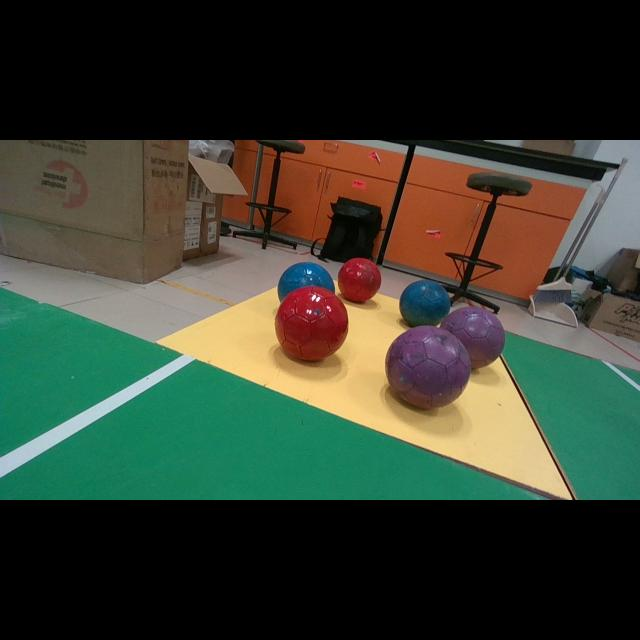B: (400, 280, 450, 326), (278, 262, 335, 301)
P: (385, 325, 471, 408), (440, 306, 505, 369)
R: (275, 286, 349, 361), (338, 258, 381, 302)
